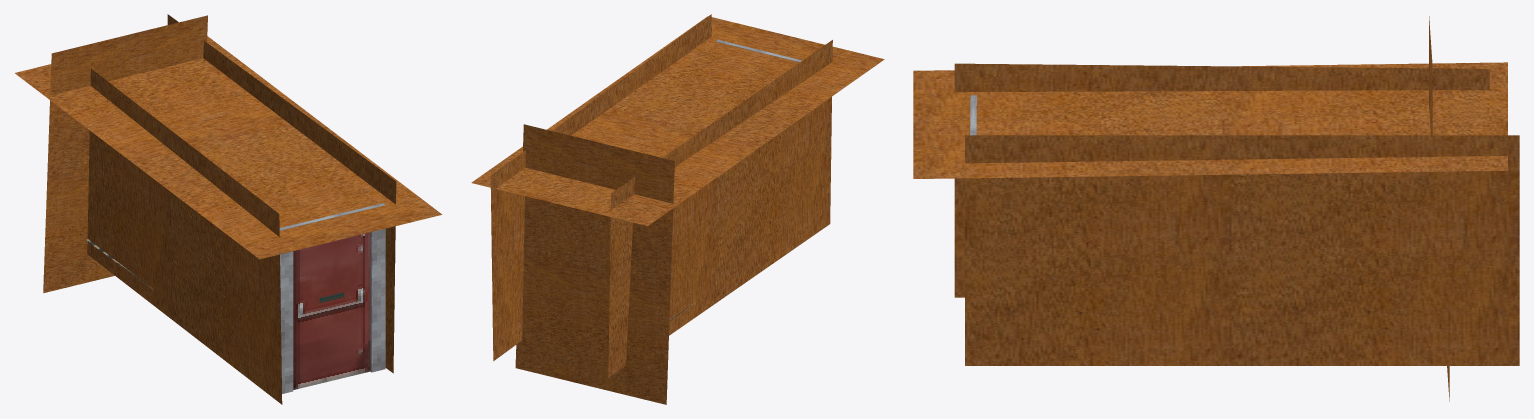
The model's file is Bedroom.glb.
3 views of the same model, side by side, from view 1: azimuth 30°, elevation 25°; view 2: azimuth 150°, elevation 25°; view 3: azimuth 270°, elevation 25° (orthographic). The views are drawn at different scales.
Parts seen in each view (by area): view 1: Plane.001, Plane.003, door_typeA.001, Plane.004, Plane.002; view 2: Plane.004, Plane.003, Plane.001, Plane.002; view 3: Plane.002, Plane.001, Plane.003, Plane.004.
Part boxes in pixels (left/top/right/bottom): Plane.001: left=15, top=36, right=442, bottom=259; Plane.003: left=87, top=68, right=282, bottom=404; door_typeA.001: left=280, top=204, right=385, bottom=393; Plane.004: left=43, top=15, right=207, bottom=293; Plane.002: left=167, top=14, right=396, bottom=373; Plane.004: left=515, top=124, right=674, bottom=404; Plane.003: left=608, top=40, right=832, bottom=377; Plane.001: left=471, top=16, right=884, bottom=225; Plane.002: left=490, top=14, right=711, bottom=361; Plane.002: left=965, top=135, right=1519, bottom=365; Plane.001: left=913, top=62, right=1507, bottom=178; Plane.003: left=954, top=63, right=1489, bottom=297; Plane.004: left=1429, top=16, right=1449, bottom=401.
Size of the model in its own units: 2 by 2.57 by 4.73.
Materials: 9 (6 with a texture image).
